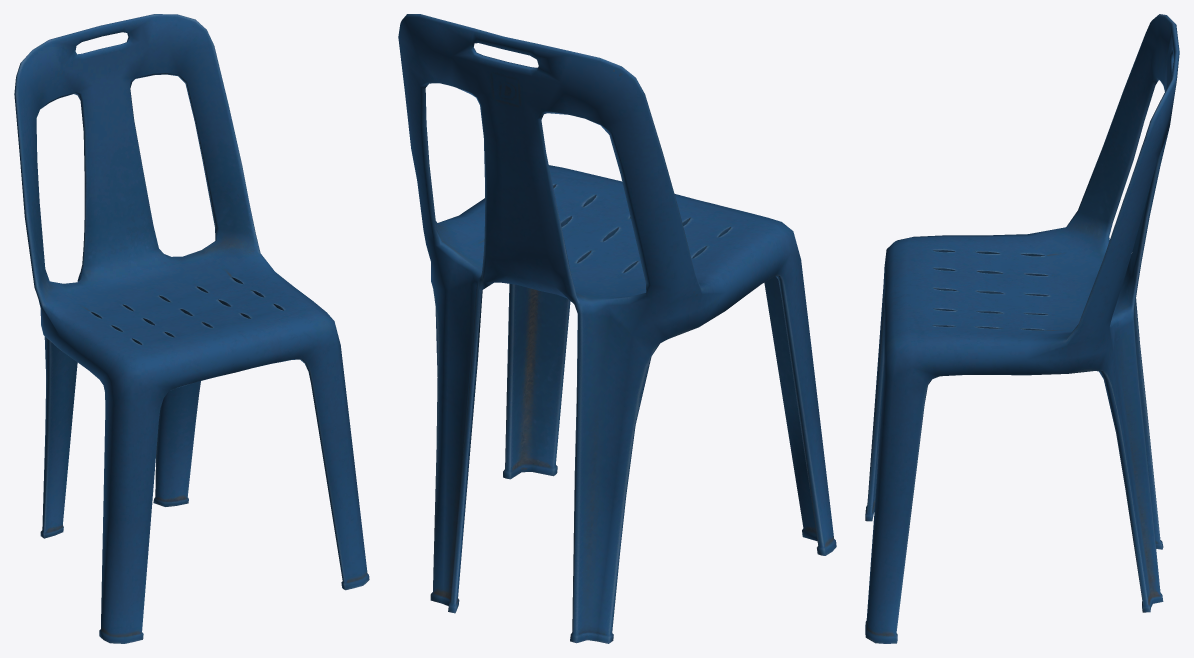
The model's file is plasticChair01_blue.FBX.
The picture shows the model from 3 angles, left to right: view 1: azimuth 30°, elevation 25°; view 2: azimuth 150°, elevation 25°; view 3: azimuth 270°, elevation 25°; orthographic projection. The views are drawn at different scales.
Parts seen in each view (by area): view 1: SM_PlasticChair01; view 2: SM_PlasticChair01; view 3: SM_PlasticChair01.
Boxes of the visible parts, <box> form: SM_PlasticChair01: <box>14,14,369,643</box>; SM_PlasticChair01: <box>398,14,836,643</box>; SM_PlasticChair01: <box>865,14,1179,643</box>.
Size of the model in its own units: 55.75 by 98.22 by 53.39.
Materials: 1 (1 with a texture image).
